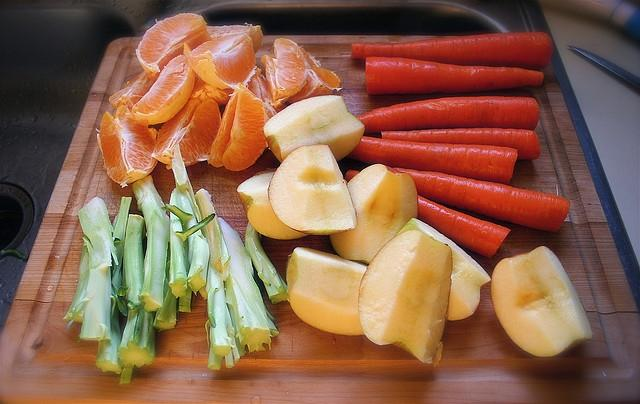apple: (358, 229, 453, 368), (490, 246, 592, 358), (396, 218, 492, 321), (329, 164, 418, 264), (269, 144, 357, 236), (286, 248, 369, 336), (263, 95, 365, 163), (237, 168, 310, 239)
broccoli: (194, 188, 240, 371), (66, 196, 120, 342), (218, 217, 274, 354), (118, 214, 156, 386), (95, 196, 132, 372), (132, 175, 170, 313), (244, 221, 290, 304), (62, 240, 90, 330), (187, 234, 210, 292), (252, 262, 265, 291)
carrot: (344, 169, 511, 259), (392, 167, 570, 233), (346, 136, 518, 186), (351, 32, 554, 70), (366, 56, 544, 95), (355, 96, 540, 133), (381, 127, 541, 160)
orange: (96, 104, 158, 188), (151, 97, 221, 170), (135, 13, 212, 79), (132, 54, 196, 126), (221, 82, 269, 170), (188, 32, 258, 89), (288, 46, 342, 104), (208, 90, 238, 168), (108, 70, 156, 115), (272, 38, 308, 96), (206, 22, 263, 54), (188, 73, 234, 106), (246, 67, 272, 102), (261, 54, 276, 102)
